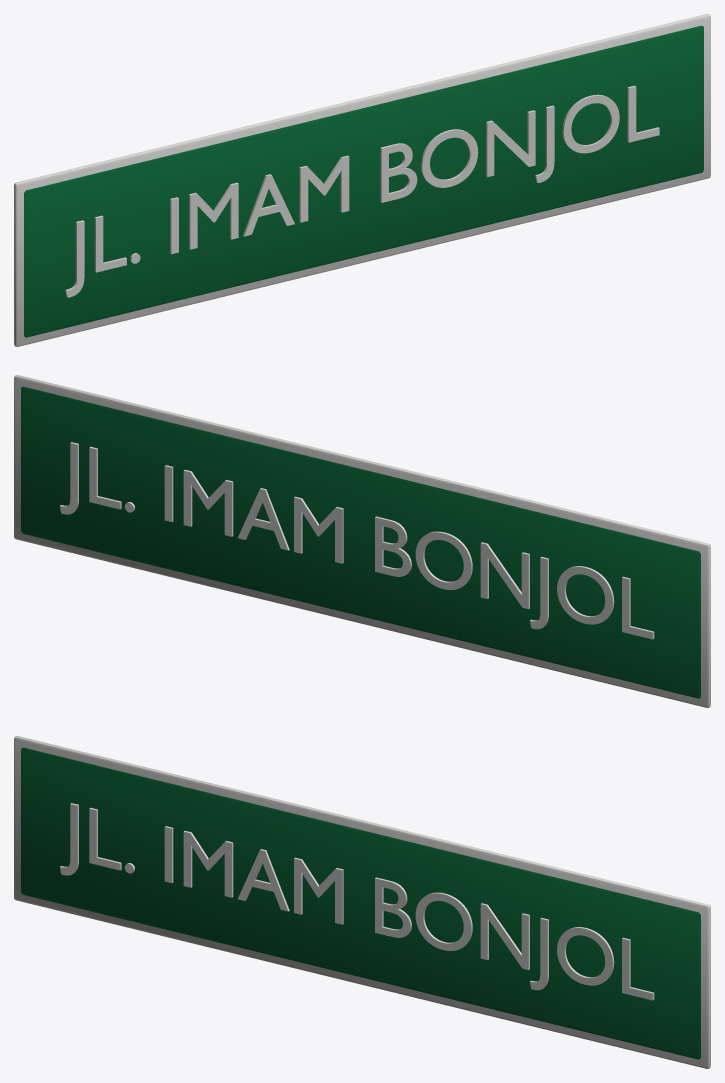
The model's file is StreetName_imambonjol.fbx.
3 views of the same model, one above another, from view 1: azimuth 30°, elevation 25°; view 2: azimuth 150°, elevation 25°; view 3: azimuth 330°, elevation 25° (orthographic).
Visible parts, largest first — view 1: StreetName_imambonjol_Mesh; view 2: StreetName_imambonjol_Mesh; view 3: StreetName_imambonjol_Mesh.
Boxes of the visible parts, bbox=[...] form: StreetName_imambonjol_Mesh: bbox=[14, 14, 710, 346]; StreetName_imambonjol_Mesh: bbox=[14, 375, 710, 707]; StreetName_imambonjol_Mesh: bbox=[14, 736, 710, 1068].
Bounding box in the file's own units: 1.55 × 0.35 × 0.026.
